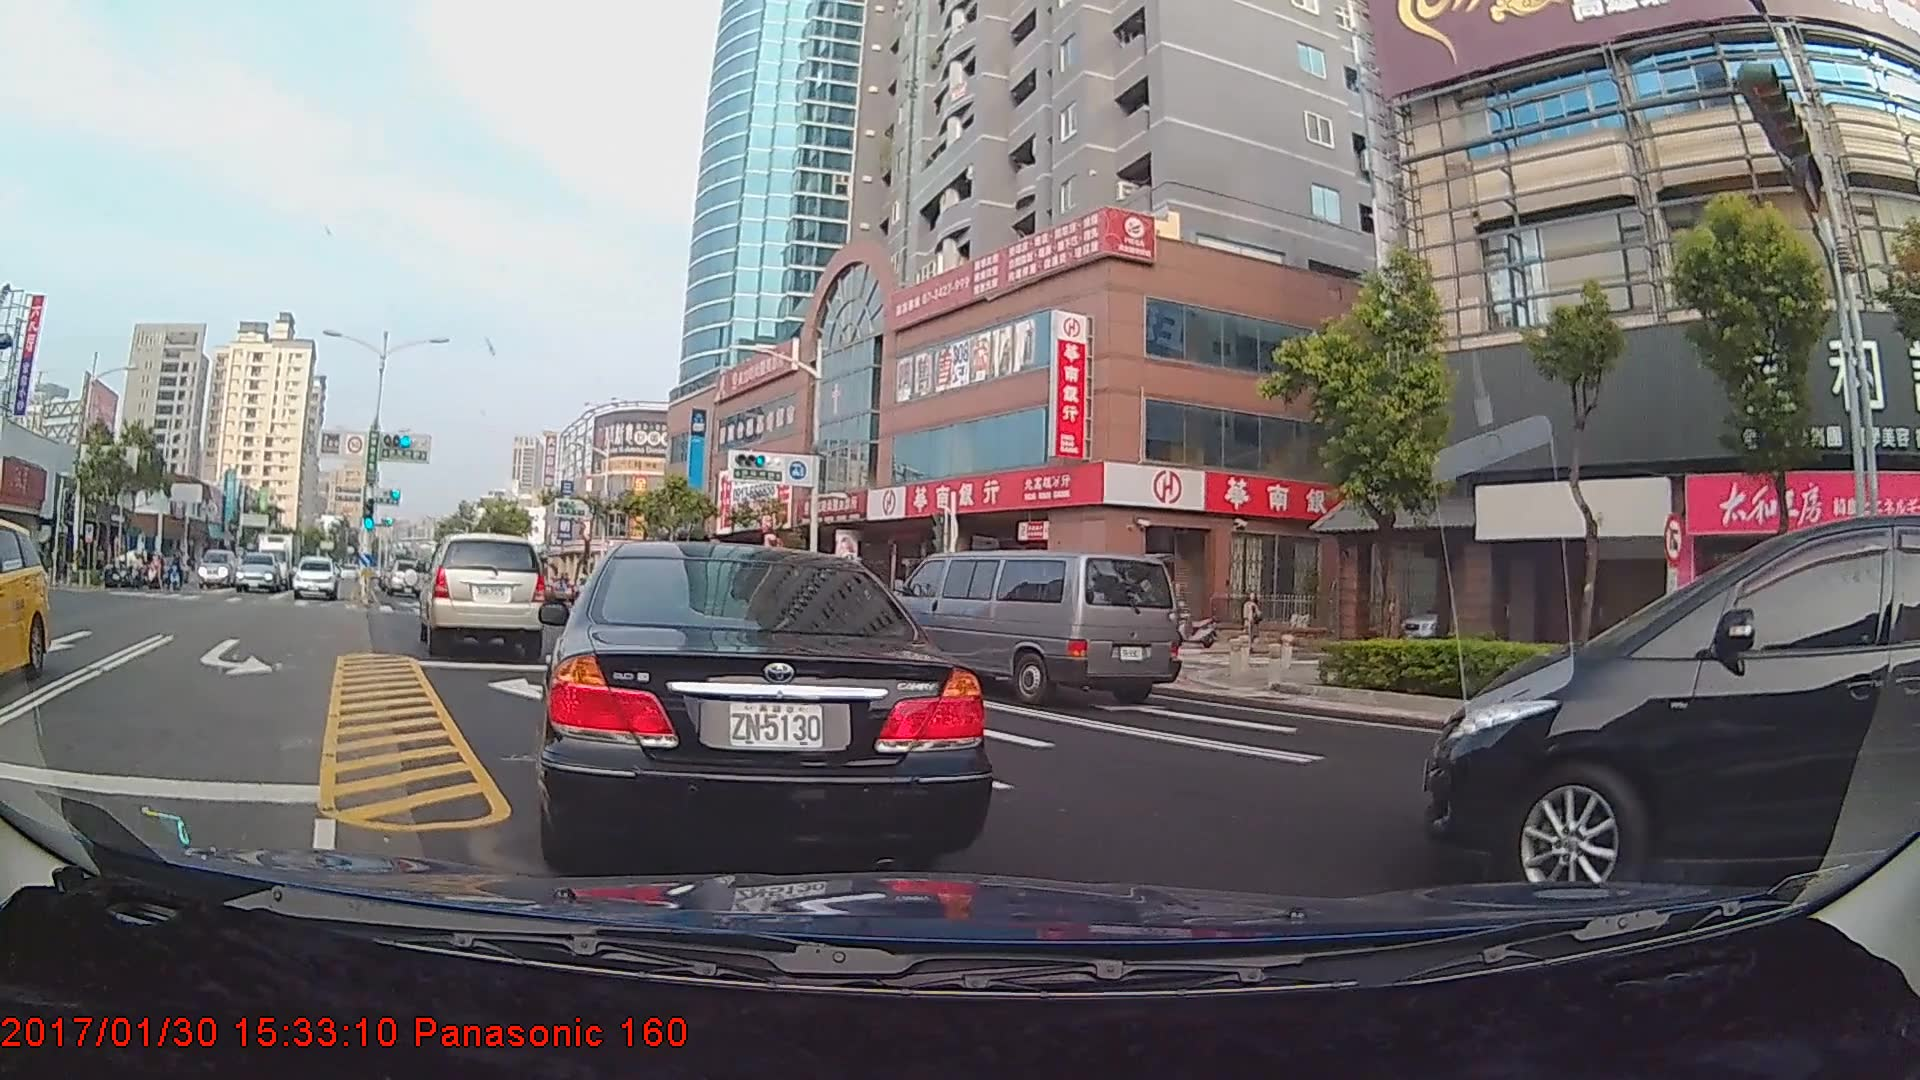pedestrian: (1240, 593, 1265, 654)
vehicle: (1401, 476, 1903, 899), (541, 537, 984, 871), (878, 550, 1182, 710), (420, 533, 555, 654), (0, 512, 51, 684), (252, 528, 304, 586), (293, 554, 340, 600), (235, 551, 282, 594), (198, 548, 238, 590), (382, 556, 422, 596)
